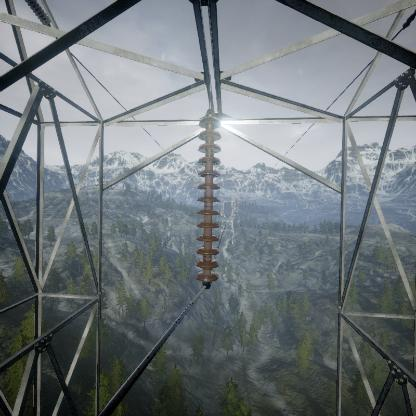insulator: (196, 109, 222, 286)
